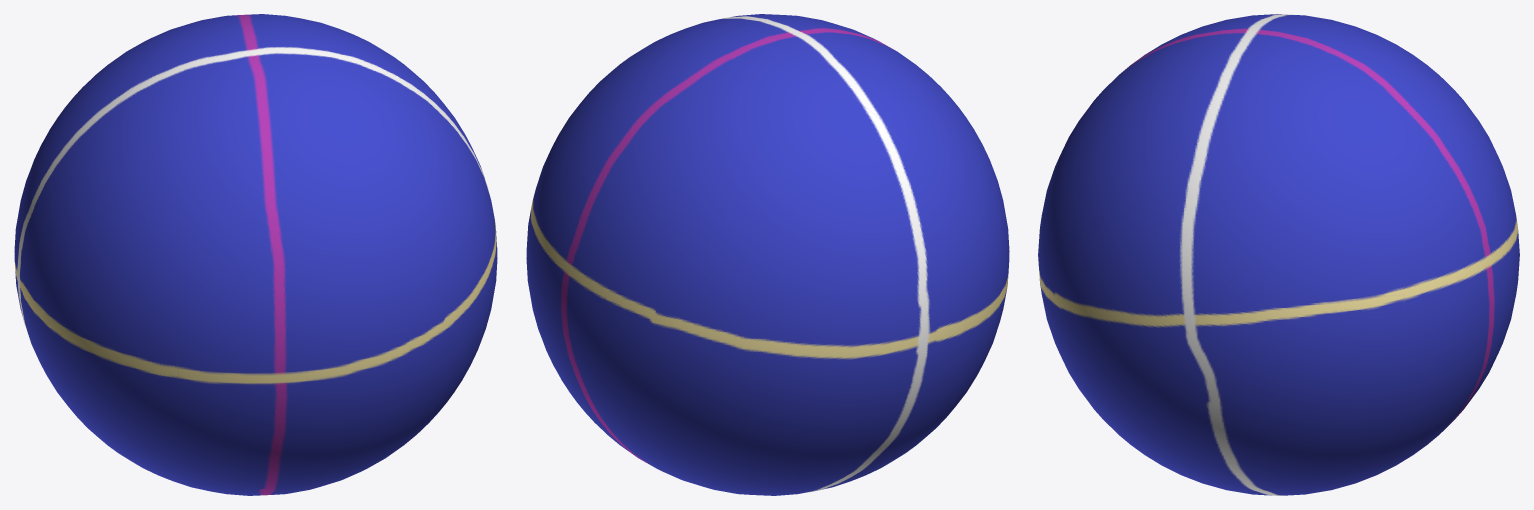
File: ball.glb
3 views of the same model, side by side, from view 1: azimuth 30°, elevation 25°; view 2: azimuth 150°, elevation 25°; view 3: azimuth 270°, elevation 25° (orthographic).
Visible parts, largest first — view 1: mesh_id27; view 2: mesh_id27; view 3: mesh_id27.
Part boxes in pixels (x1,y1,x2,y2): mesh_id27: (14, 14, 497, 495); mesh_id27: (526, 14, 1009, 495); mesh_id27: (1038, 14, 1519, 495).
Size of the model in its own units: 0.2216 by 0.2209 by 0.2209.
Materials: 1 (1 with a texture image).
